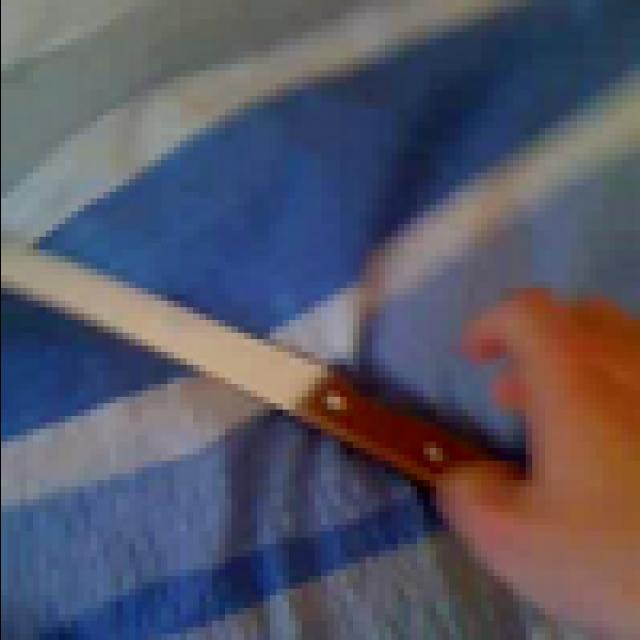knife: (13, 230, 531, 512)
